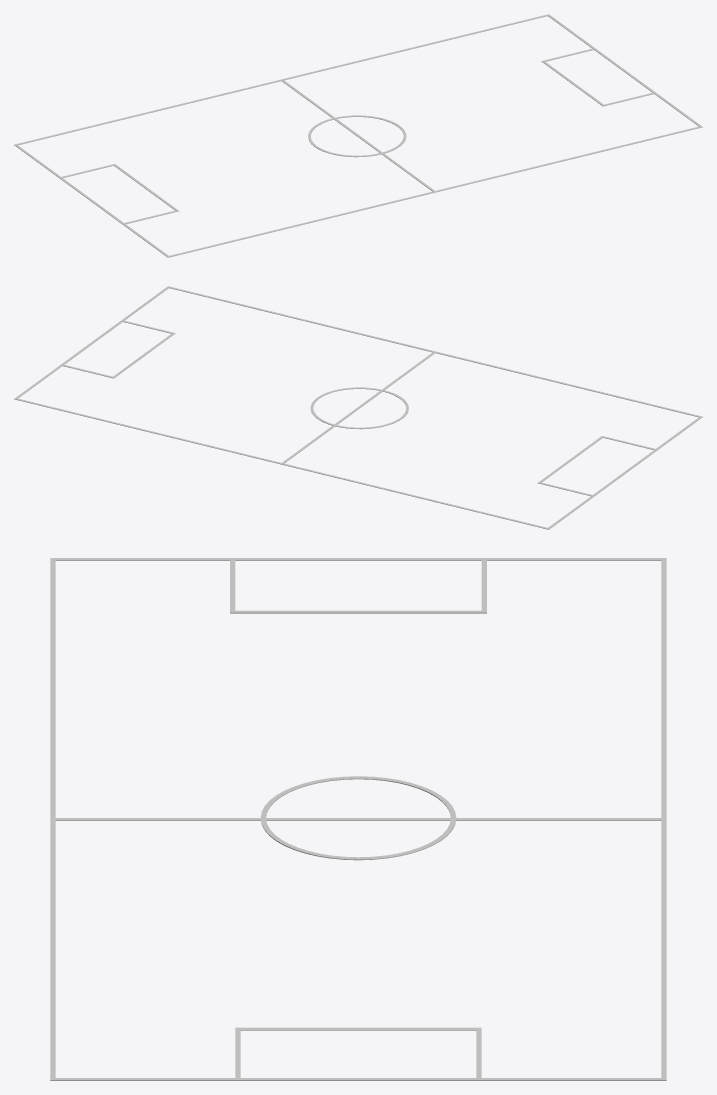
Rendered from football fround.fbx.
The picture shows the model from 3 angles, top to bottom: view 1: azimuth 30°, elevation 25°; view 2: azimuth 150°, elevation 25°; view 3: azimuth 270°, elevation 25°; orthographic projection. The views are drawn at different scales.
Parts seen in each view (by area): view 1: model_3; view 2: model_3; view 3: model_3.
Part boxes in pixels (x1,y1,x2,y2): model_3: (14,14,702,257); model_3: (14,286,702,529); model_3: (50,558,666,1080).
Bounding box in the file's own units: 374442 × 266 × 186808.
